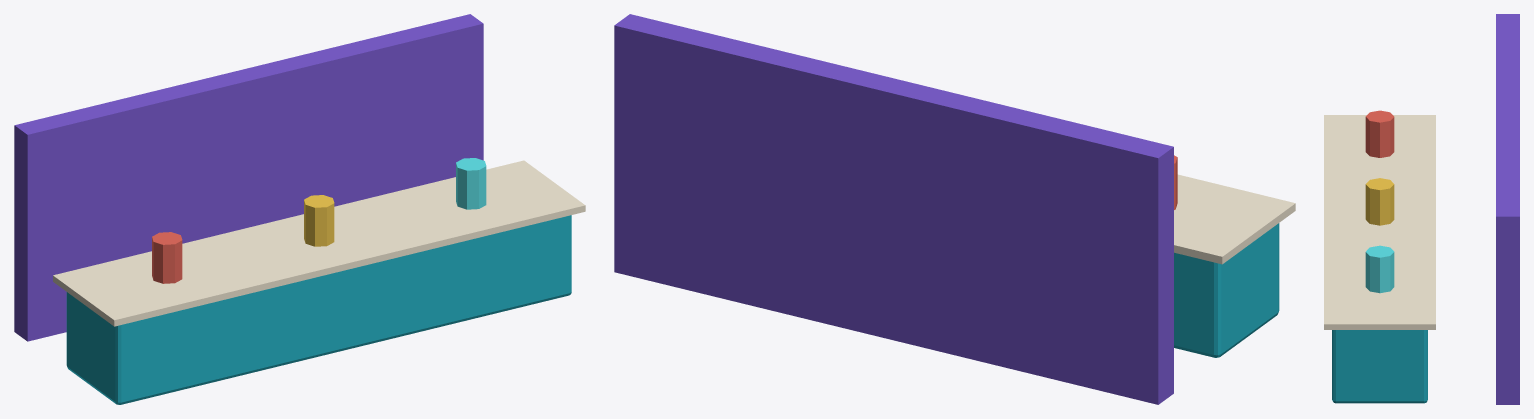
Rendered from hub_counter.glb.
3 renders of one model, left to right at view 1: azimuth 30°, elevation 25°; view 2: azimuth 150°, elevation 25°; view 3: azimuth 270°, elevation 25°, orthographic. The views are drawn at different scales.
Visible parts, largest first — view 1: Cube.001; view 2: Cube.001; view 3: Cube.001.
Part boxes in pixels (x1=…): Cube.001: x1=14, y1=14, x2=585, y2=404; Cube.001: x1=614, y1=14, x2=1295, y2=404; Cube.001: x1=1324, y1=14, x2=1519, y2=404.
Size of the model in its own units: 6.2 by 2.6 by 2.45.
